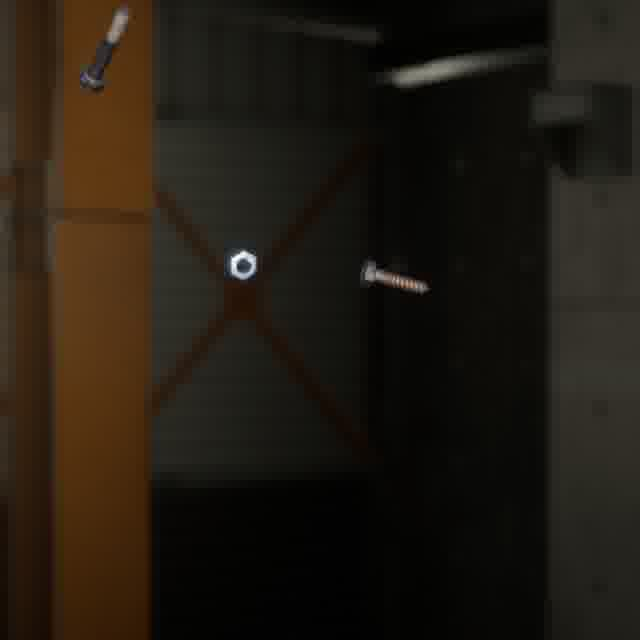bolt: (73, 2, 136, 97), (355, 255, 433, 298)
nut: (222, 243, 261, 285)
